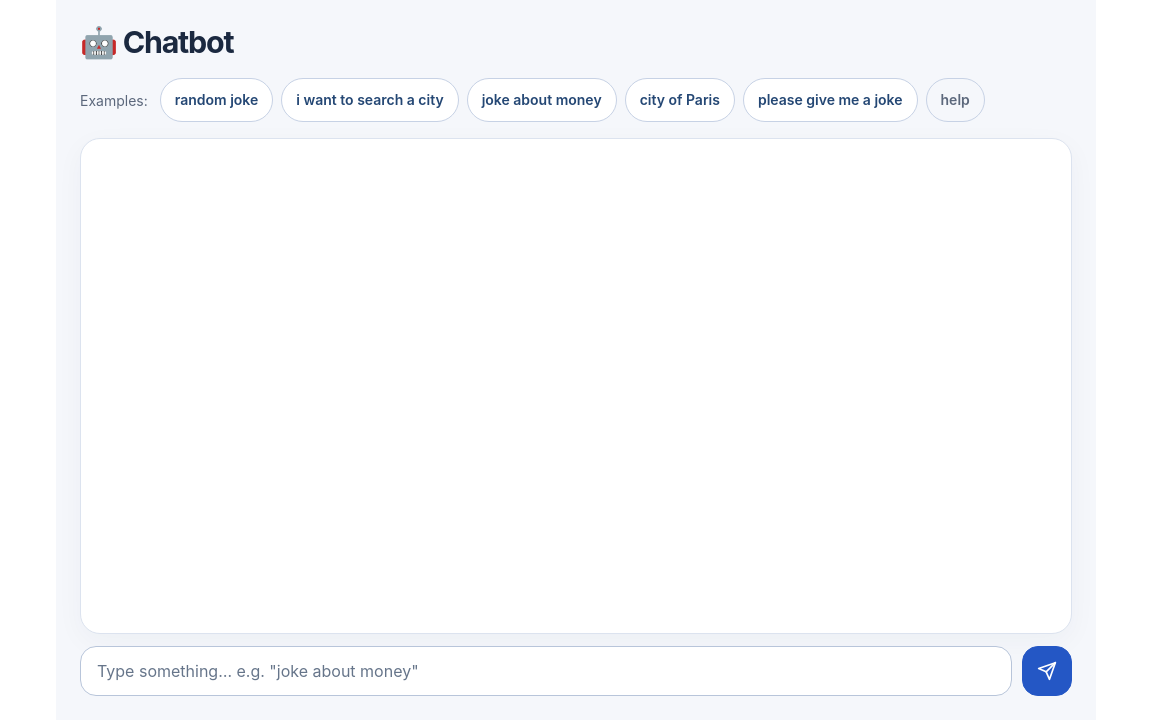
Scenario: cancels a queued message while the silent health check continues
This screenshot has width=1152, height=720.
Type "Hi" into the field named "Chat message". click: coordinates (546, 671)
box: [80,646,1012,696]
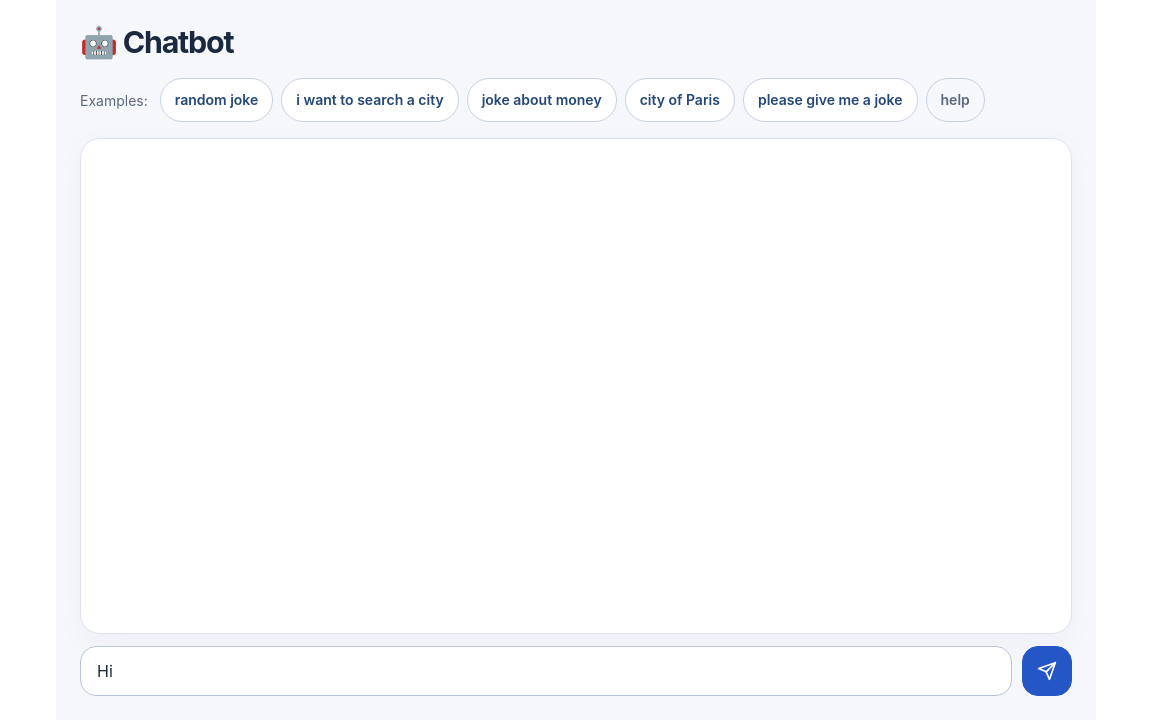
Press Enter in the field named "Chat message", box [80,646,1012,696]
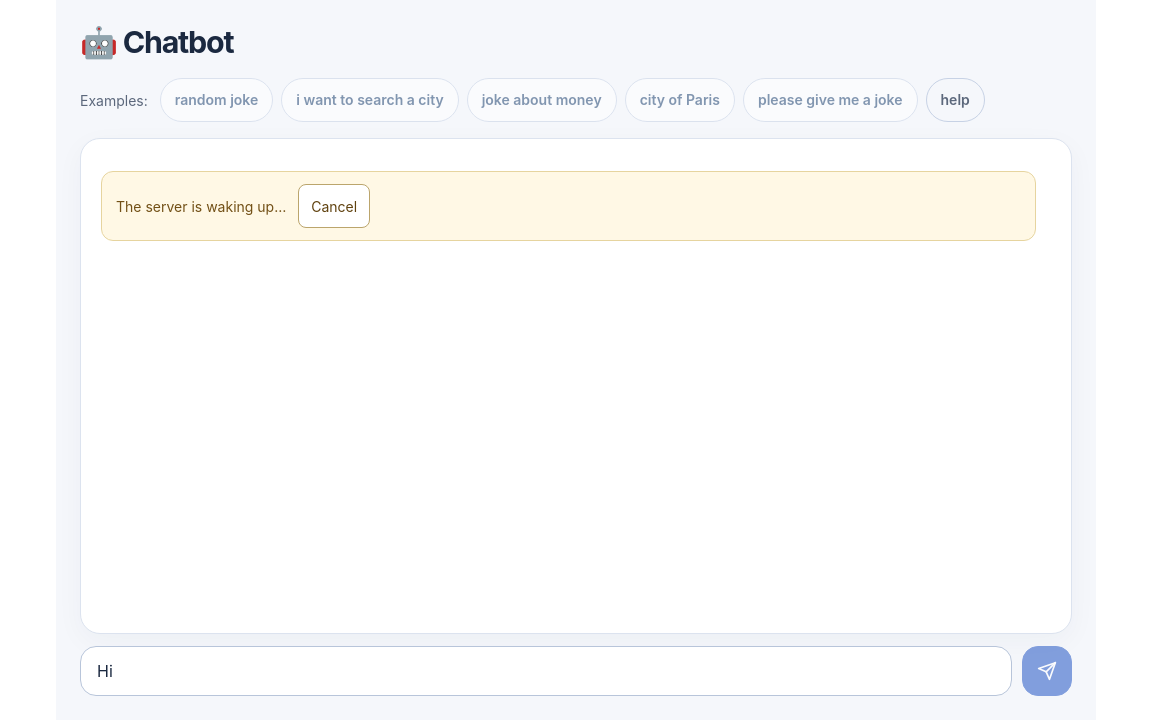
Click the button "Cancel". click: coordinates (334, 206)
box: [298,184,370,228]
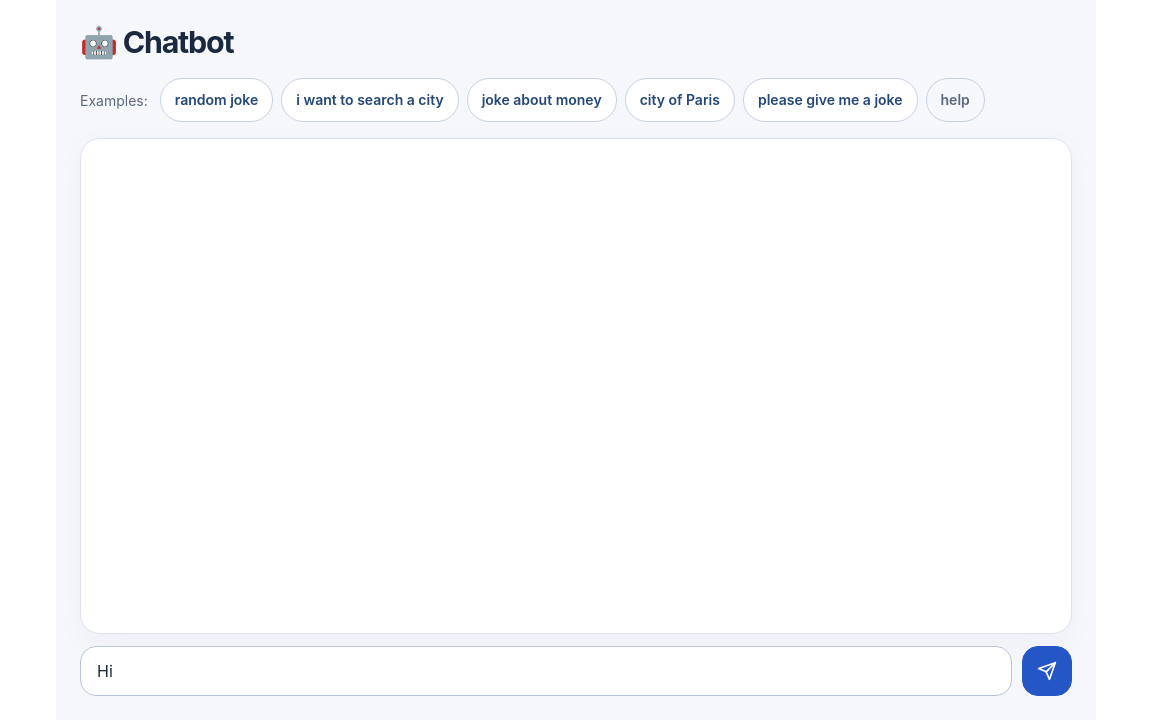
Expected: the message "The server is waking up…" is gone
